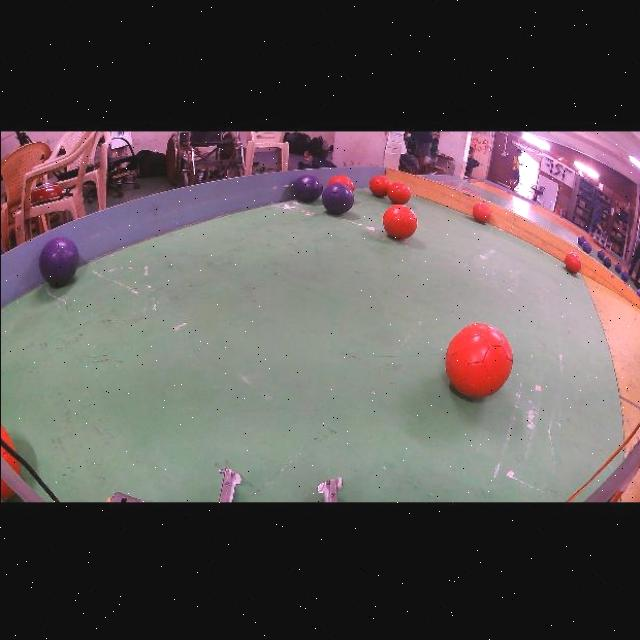P: (39, 236, 77, 287), (320, 182, 354, 214), (293, 174, 323, 202), (581, 240, 591, 253), (619, 270, 628, 282), (596, 248, 605, 260), (613, 262, 621, 272), (577, 235, 585, 245), (635, 288, 640, 298)
R: (444, 323, 512, 396), (382, 203, 417, 239), (386, 181, 410, 204), (0, 446, 19, 474), (368, 174, 390, 196), (326, 174, 354, 191), (471, 202, 490, 222), (564, 251, 581, 272), (0, 424, 14, 449), (0, 478, 14, 500)
